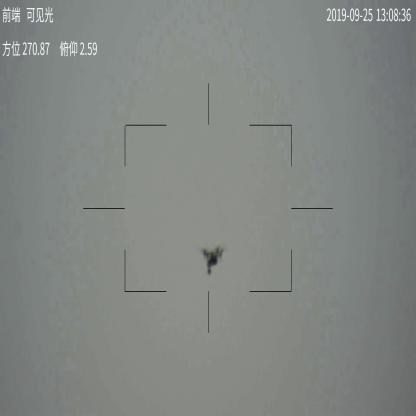uav: (204, 246, 228, 274)
